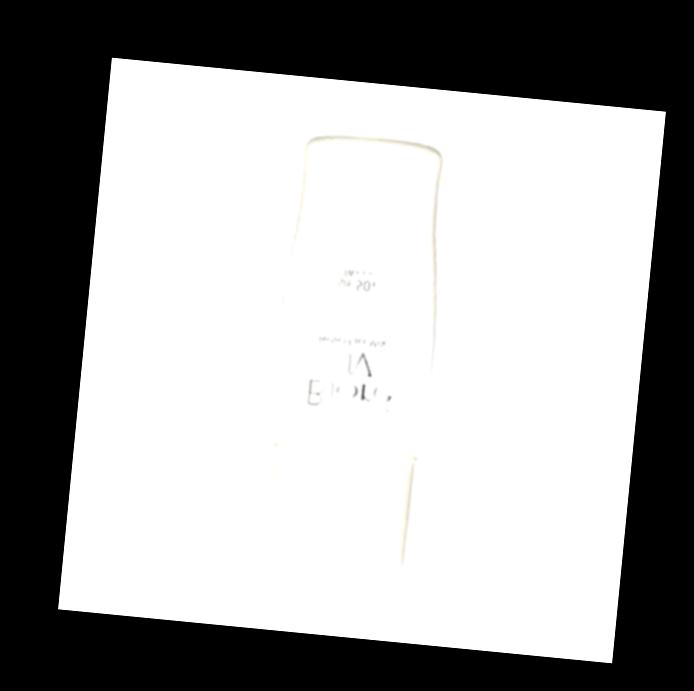cosmetic: (259, 130, 456, 575)
